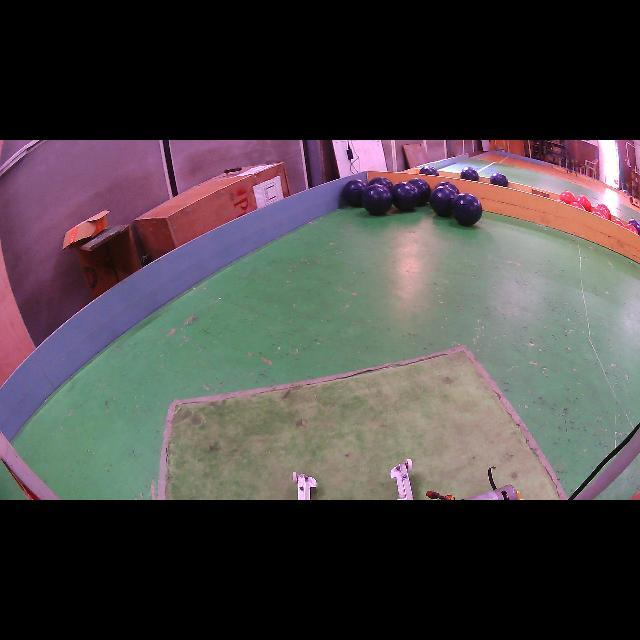B: (451, 192, 482, 226), (361, 184, 392, 215), (391, 182, 420, 211), (429, 186, 456, 217), (342, 179, 368, 208), (409, 179, 431, 206), (435, 181, 459, 194), (368, 176, 392, 189), (490, 172, 509, 188), (460, 168, 479, 181), (420, 166, 439, 176)
